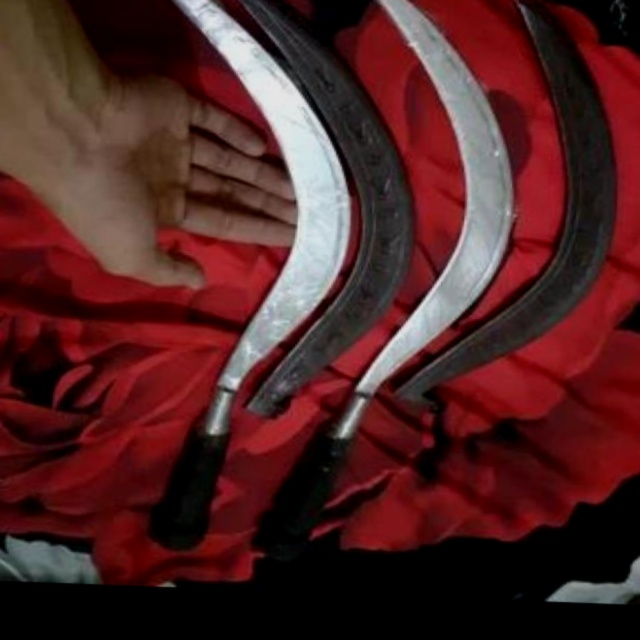Sharp-Object: (250, 0, 521, 585), (135, 0, 332, 592)
